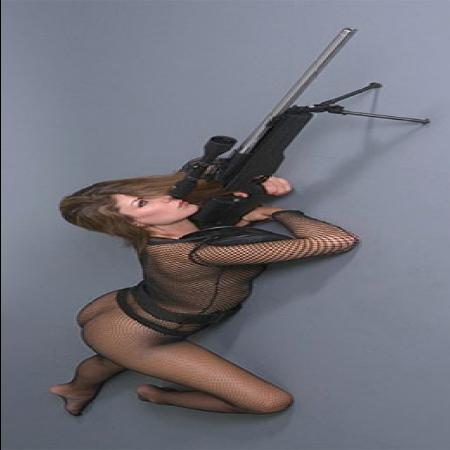Pistol: (136, 102, 346, 236)
